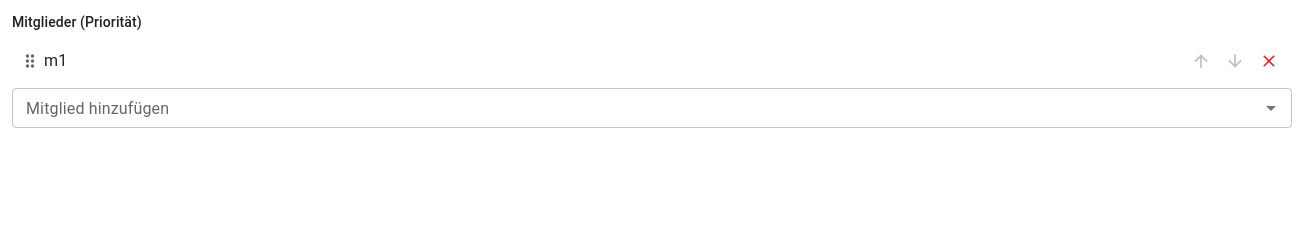
Test: does not offer an already-added member (dedup)
Press the mouse on the dropdown labelled "Mitglied hinzufügen": (636, 108) [18,94,1253,122]
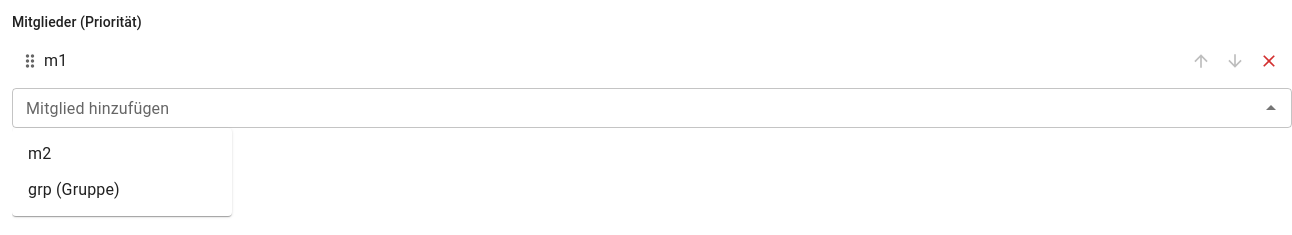
Check: the option "m2" is shown, box [28,144,51,163]
